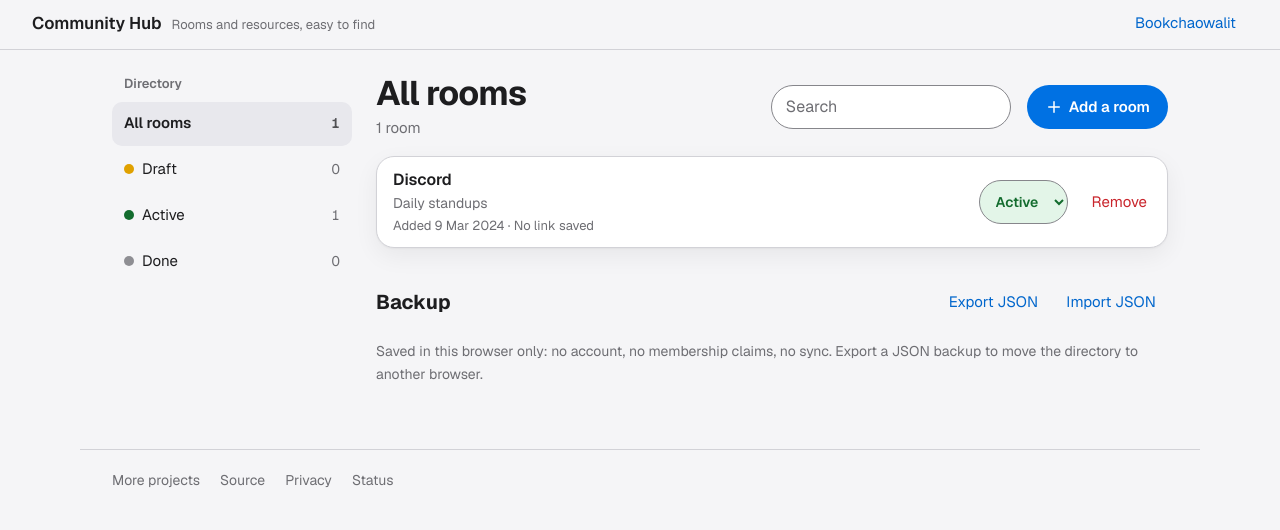
Test: backup › exports the directory as a JSON download
Click the button "Export JSON". click: (994,302)
box: [937, 280, 1050, 324]
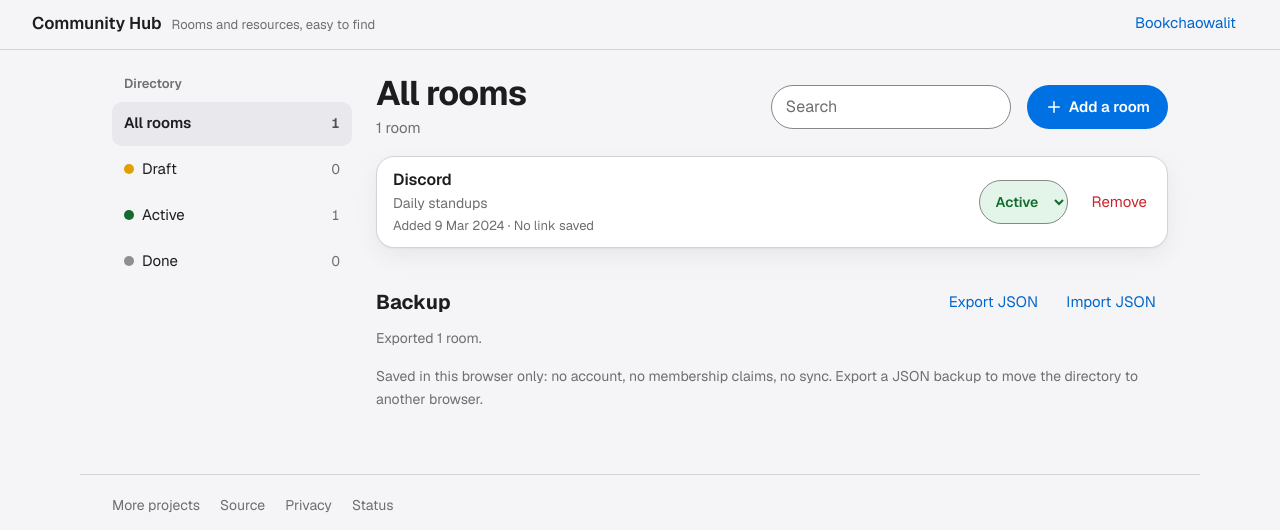
Expected: the text "Exported 1 room." is shown, [376, 330, 482, 348]
